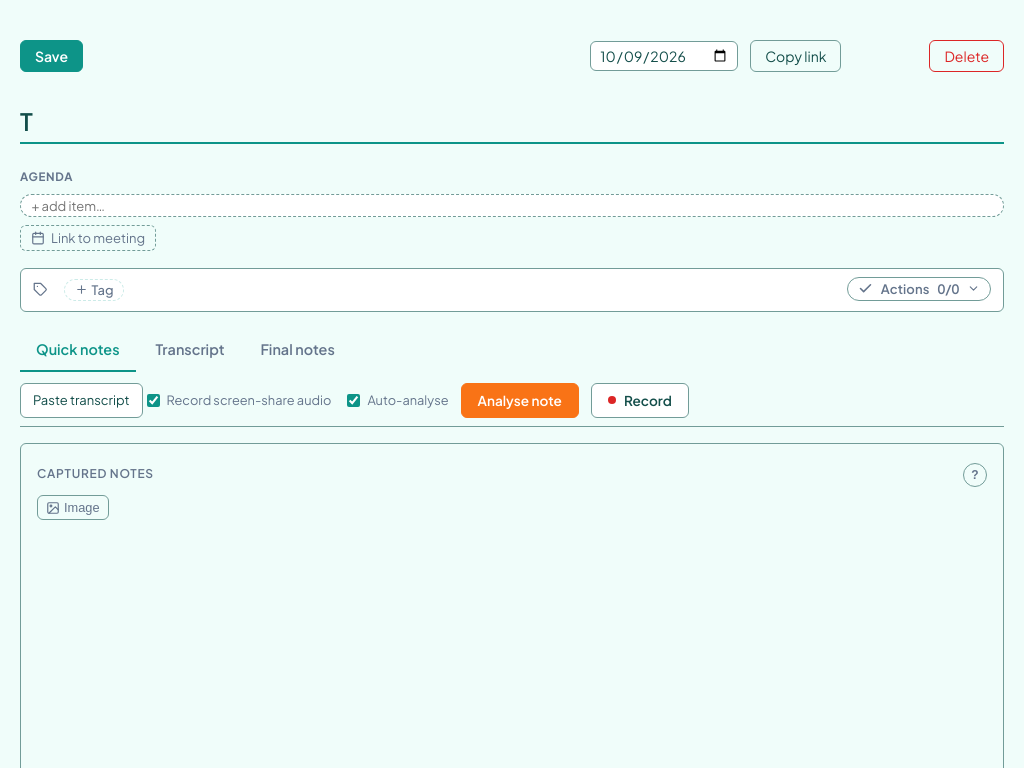
Test: NoteView › three-tab layout › switching to the Transcript tab shows the transcript read-only
Click the tab with test id "note-tab-transcript". click: (190, 350)
box: left=140, top=328, right=240, bottom=372
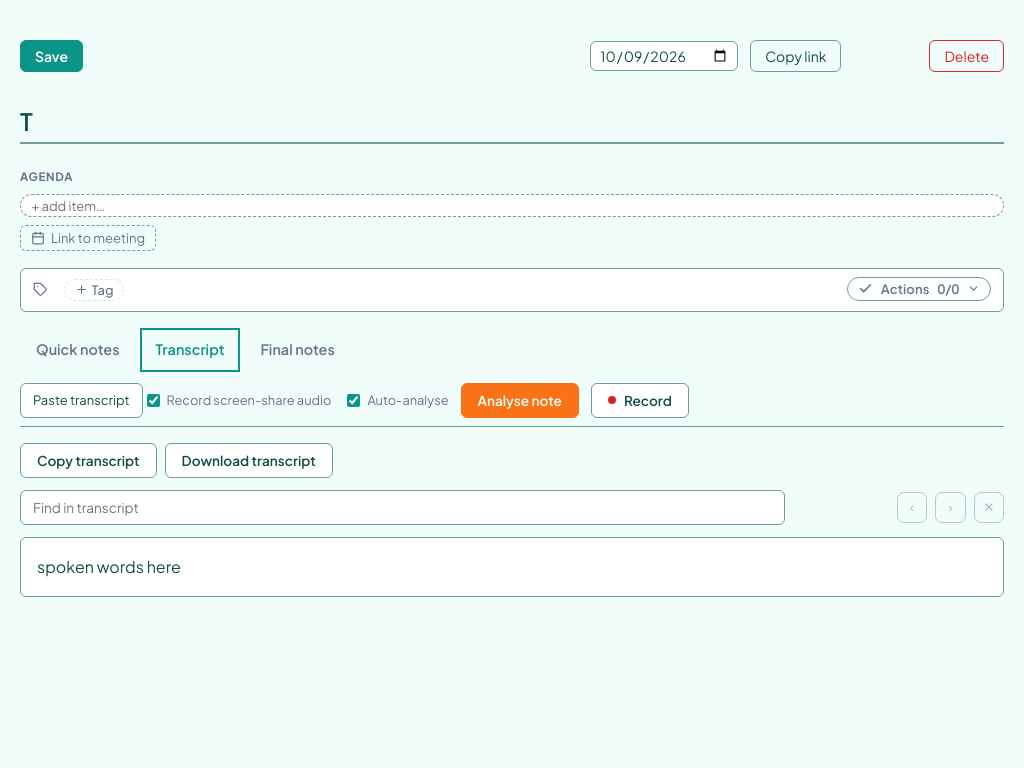
Expected: the text with test id "transcription-text" reads "spoken words here", left=37, top=556, right=181, bottom=577
